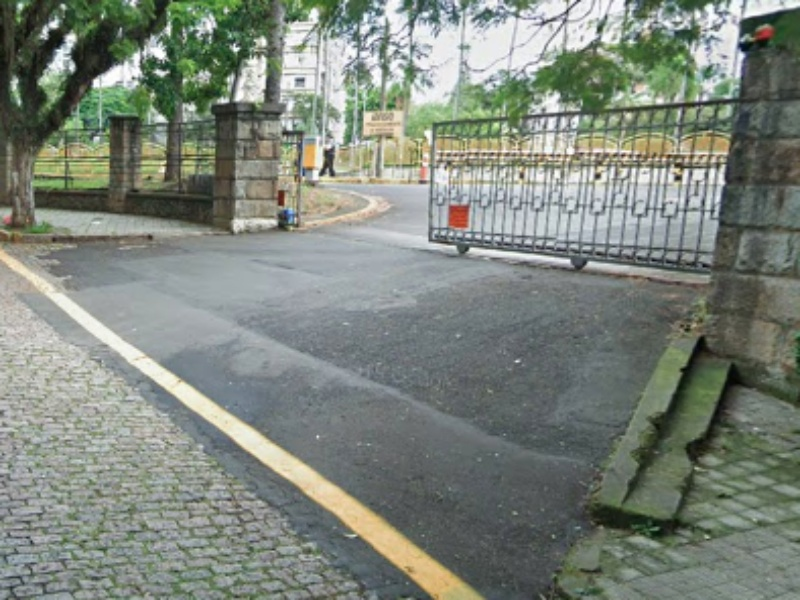g96: (3, 238, 370, 596)
